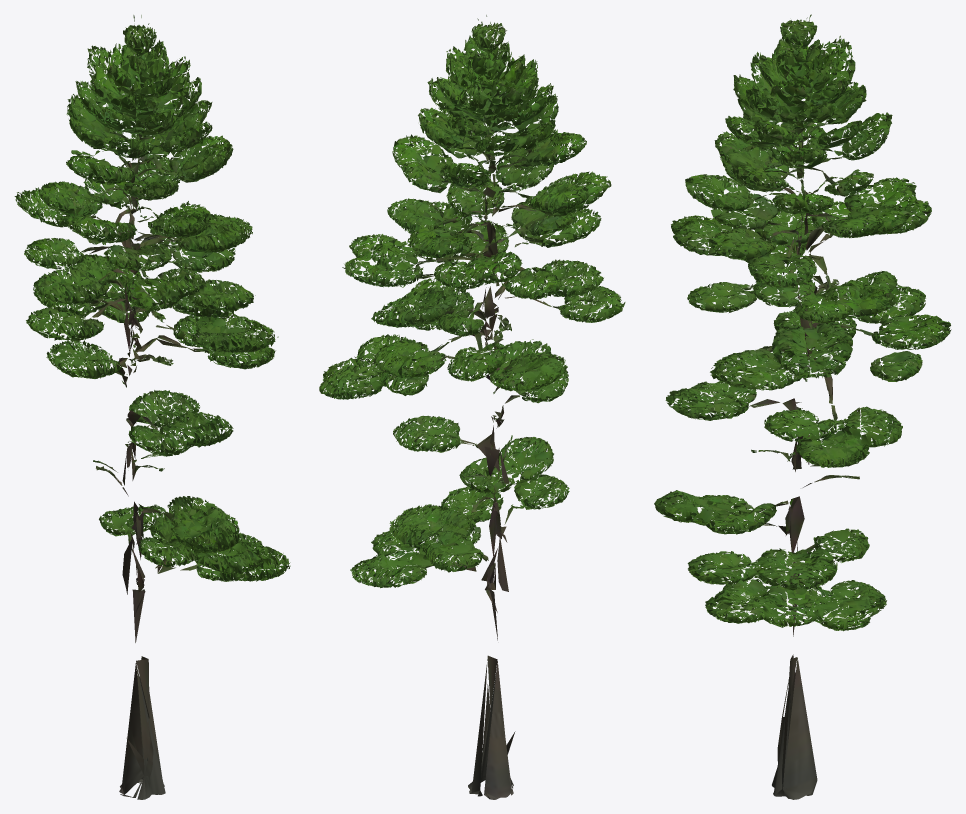
Rendered from pine_tree_tall.glb.
3 views of the same model, side by side, from view 1: azimuth 30°, elevation 25°; view 2: azimuth 150°, elevation 25°; view 3: azimuth 270°, elevation 25° (orthographic).
Parts seen in each view (by area): view 1: Mesh_0; view 2: Mesh_0; view 3: Mesh_0.
Part boxes in pixels (x1,y1,x2,y2): Mesh_0: (14,15,290,799); Mesh_0: (319,15,625,799); Mesh_0: (654,14,951,799).
Bounding box in the file's own units: 0.3633 × 0.9992 × 0.3476.
1 material, 1 textured.
